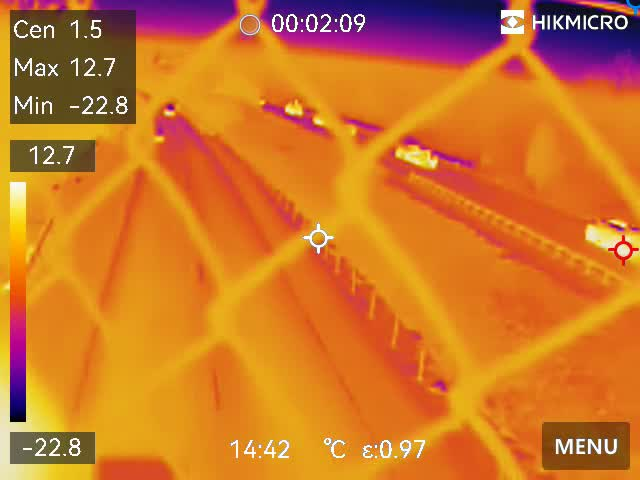vehicle: (587, 215, 640, 265), (389, 141, 440, 174), (278, 94, 306, 119), (150, 123, 170, 150), (162, 103, 181, 119)
